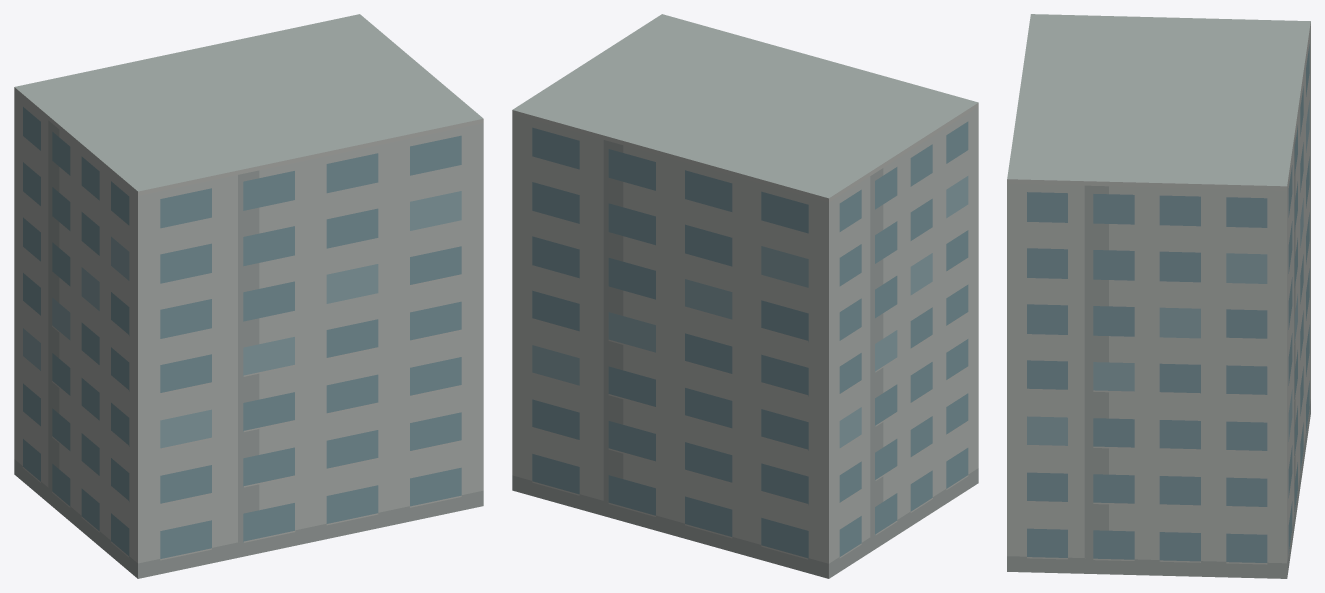
The model's file is survey-upis-32872888.glb.
The picture shows the model from 3 angles, left to right: view 1: azimuth 30°, elevation 25°; view 2: azimuth 150°, elevation 25°; view 3: azimuth 270°, elevation 25°; orthographic projection. The views are drawn at different scales.
Parts seen in each view (by area): view 1: survey-upis-32872888.tmp; view 2: survey-upis-32872888.tmp; view 3: survey-upis-32872888.tmp.
Boxes of the visible parts, x1=… form: survey-upis-32872888.tmp: x1=14, y1=14, x2=483, y2=578; survey-upis-32872888.tmp: x1=512, y1=14, x2=978, y2=578; survey-upis-32872888.tmp: x1=1007, y1=14, x2=1310, y2=578.
Bounding box in the file's own units: 20.1 × 21.35 × 14.98.
